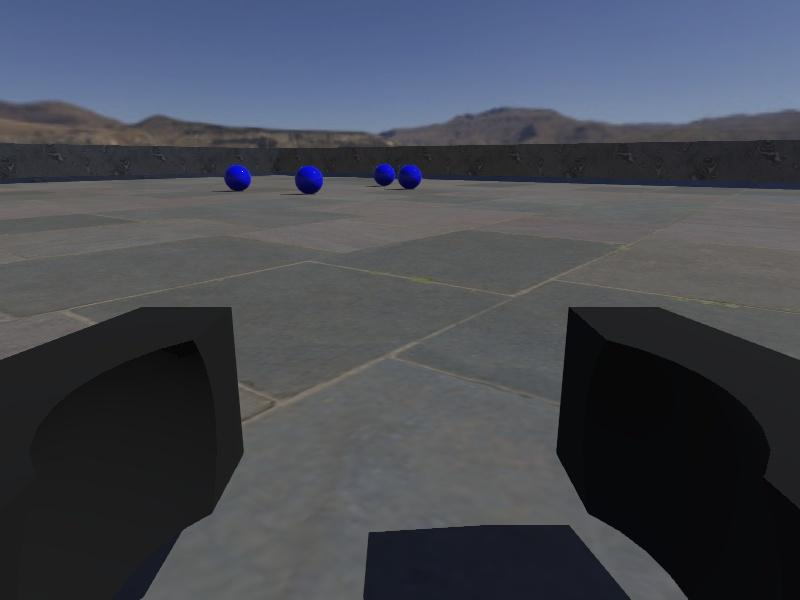blue ball: (295, 165, 323, 195), (224, 164, 252, 191), (398, 163, 422, 189), (372, 162, 395, 187)
